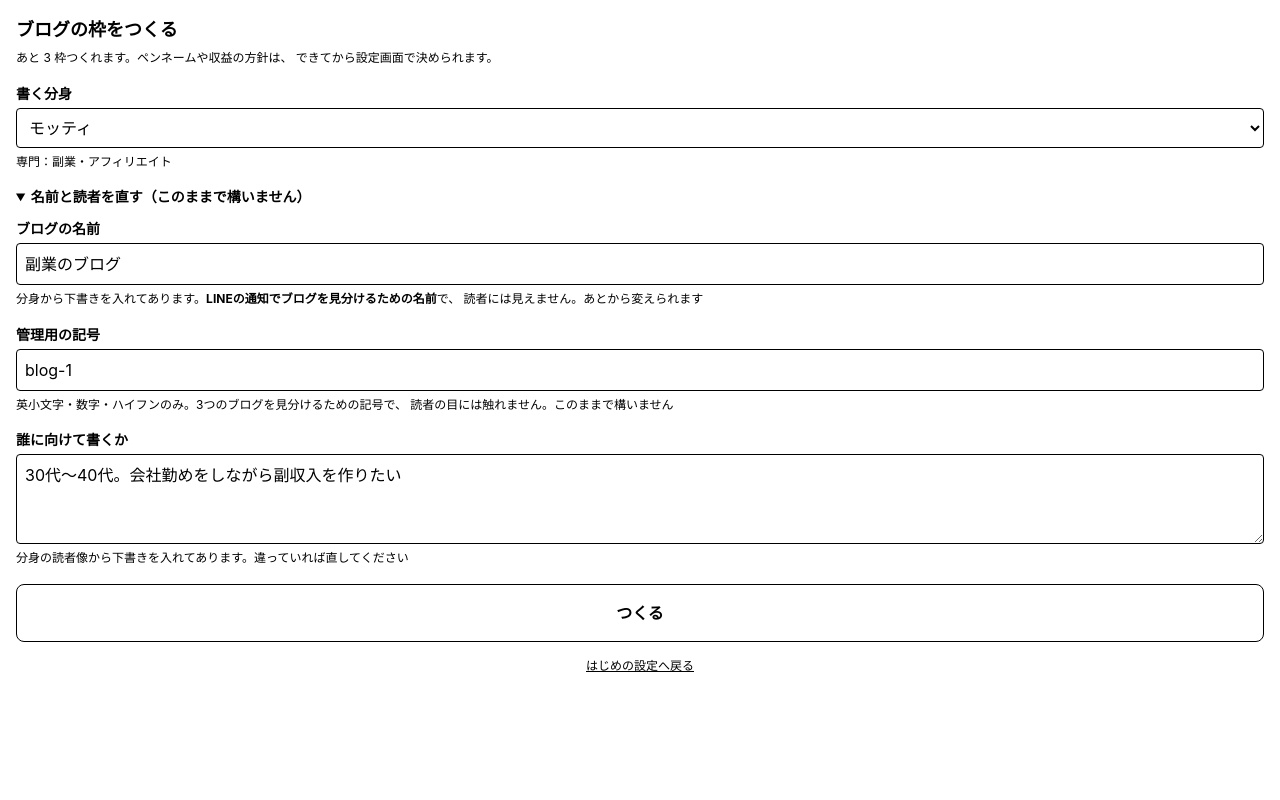
Test case: つくれる › 名前を消すと送れない
Expected: the button "つくる" is shown, [16,584,1264,642]
Clear the field labelled "ブログの名前": [640, 264] box [16,243,1264,285]
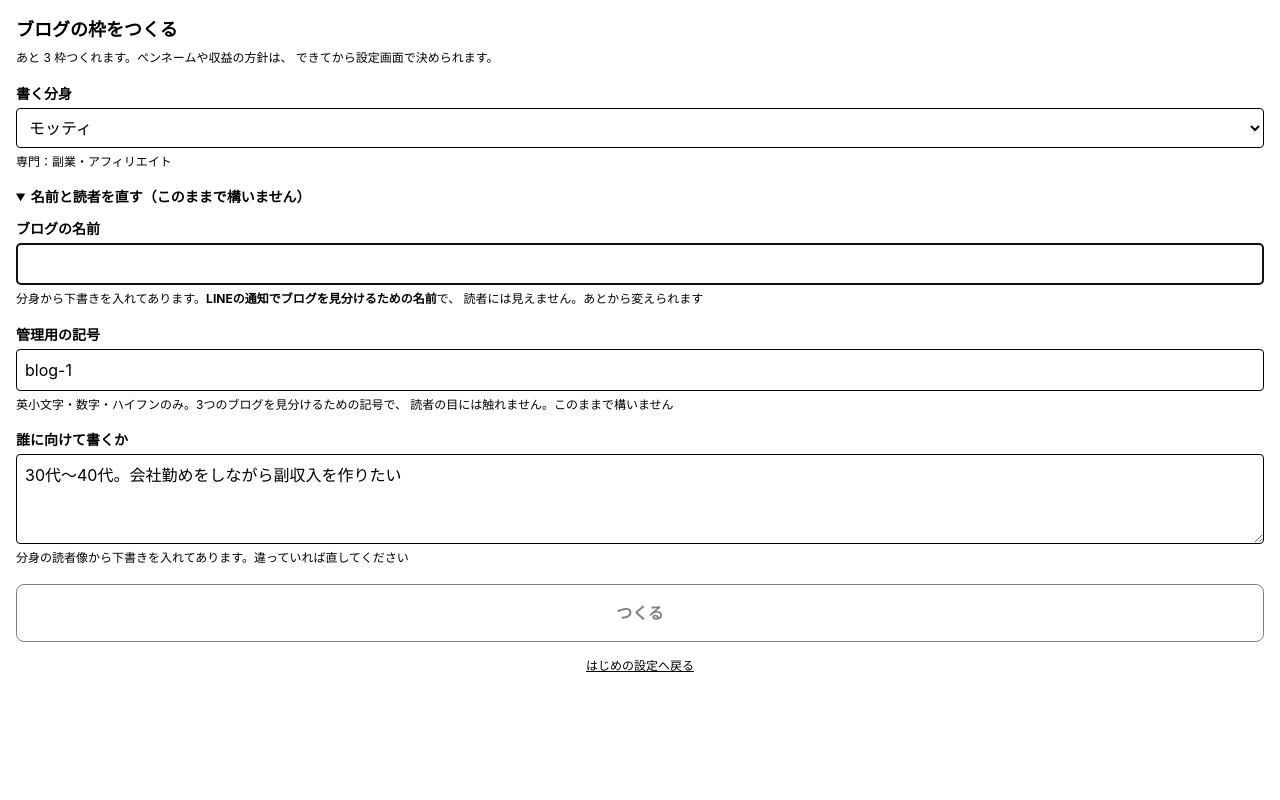
Expected: the button "つくる" is disabled, [16,584,1264,642]
